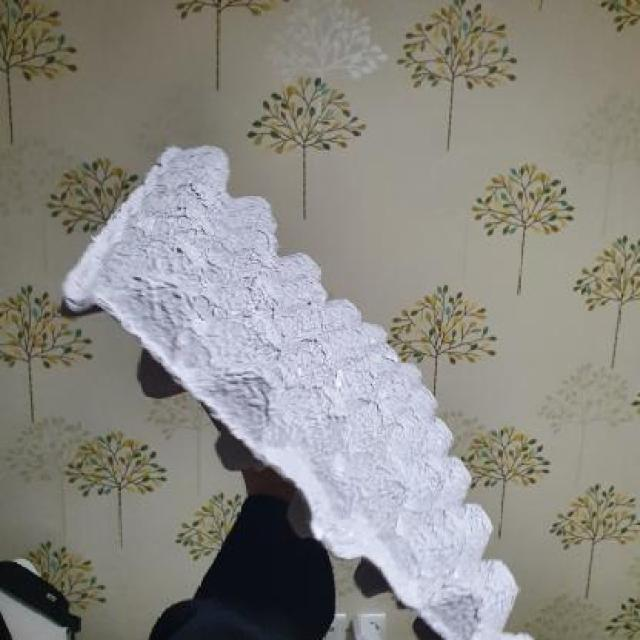box: (52, 134, 608, 640)
